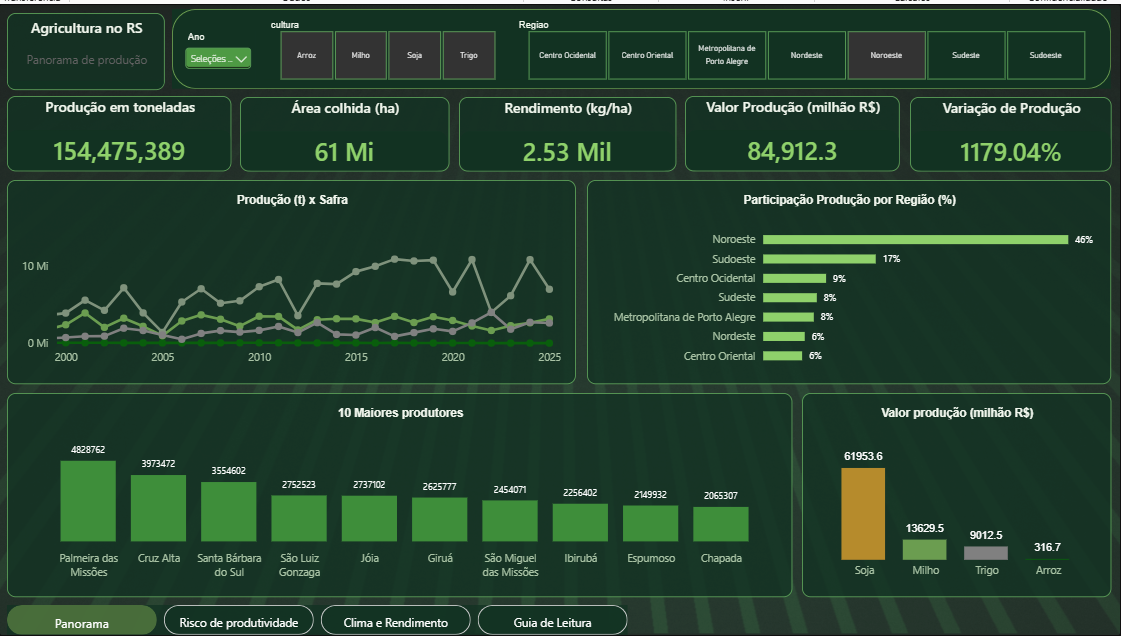

What the dashboard file says about the page in this screenshot:
{"tool":"powerbi","page":{"name":"Panorama","canvas":[1280,720],"ordinal":0},"visuals":[{"type":"shape","box":[197.5,6.2,1071.2,91.2],"z":0},{"type":"cardVisual","title":"Produção em toneladas","fields":{"Data":["_Medidas.producao_ton"]},"box":[8.8,105,256.2,86.2],"z":1000},{"type":"cardVisual","title":"Área colhida (ha)","fields":{"Data":["_Medidas.area_colhida_ton"]},"box":[275,106.2,238.8,85],"z":2000},{"type":"cardVisual","fields":{"Data":["_Medidas.Rendimento exibido"]},"box":[525,106.2,247.5,85],"z":3000},{"type":"cardVisual","title":"Valor Produção (milhão R$)","fields":{"Data":["_Medidas.valor_producao_milhao"]},"box":[782.5,105,245,86.2],"z":4000},{"type":"cardVisual","fields":{"Data":["_Medidas.variacao_da_producao"]},"box":[1300.9,86.3,360.3,148.9],"z":5000},{"type":"lineChart","title":"Produção (t) x Safra","fields":{"Category":["dim_ano.ano"],"Series":["dim_cultura.cultura"],"Y":["_Medidas.producao_ton"]},"box":[8.8,201.2,648.8,232.5],"z":6000},{"type":"columnChart","title":"Valor produção (milhão R$)","fields":{"Category":["dim_cultura.cultura"],"Y":["_Medidas.valor_producao_milhao"]},"box":[916.2,443.8,352.5,232.5],"z":7000},{"type":"slicer","fields":{"Values":["dim_ano.ano"]},"box":[207.8,30.6,85.4,56.1],"z":8000},{"type":"slicer","title":"Região","fields":{"Values":["dim_mesorregiao.mesorregiao"]},"box":[585,17.5,672.5,68.8],"z":9000},{"type":"slicer","fields":{"Values":["dim_cultura.cultura"]},"box":[302.5,17.5,282.5,68.8],"z":10000},{"type":"pageNavigator","box":[9.2,685.9,708.2,34.1],"z":11000},{"type":"cardVisual","title":"Variação de Produção","fields":{"Data":["_Medidas.variacao_da_producao"]},"box":[1038.8,106.2,230,85],"z":12000},{"type":"columnChart","title":"10 Maiores produtores","fields":{"Category":["dim_municipio.municipio"],"Y":["_Medidas.producao_ton"]},"box":[8.8,443.8,896.2,232.5],"z":13000},{"type":"clusteredBarChart","title":"Participação Produção por Região (%)","fields":{"Category":["dim_municipio.mesorregiao"],"Y":["_Medidas.participacao_producao"]},"box":[671.2,201.2,597.5,232.5],"z":14000},{"type":"shape","title":"Agricultura no RS","box":[8.8,10,180,87.5],"z":15000}]}

Visuals, with their boxes in screenshot pixels (x1, y1, x2, y2), scaled from the page's 1280x720 canvas onto the 1121x636 screenshot:
shape: BBox(173, 5, 1111, 86)
"Produção em toneladas" cardVisual: BBox(8, 93, 232, 169)
"Área colhida (ha)" cardVisual: BBox(241, 94, 450, 169)
cardVisual - _Medidas.Rendimento exibido: BBox(460, 94, 677, 169)
"Valor Produção (milhão R$)" cardVisual: BBox(685, 93, 900, 169)
"Produção (t) x Safra" lineChart: BBox(8, 178, 576, 383)
"Valor produção (milhão R$)" columnChart: BBox(802, 392, 1111, 597)
slicer - dim_ano.ano: BBox(182, 27, 257, 77)
"Região" slicer: BBox(512, 15, 1101, 76)
slicer - dim_cultura.cultura: BBox(265, 15, 512, 76)
pageNavigator: BBox(8, 606, 628, 635)
"Variação de Produção" cardVisual: BBox(910, 94, 1111, 169)
"10 Maiores produtores" columnChart: BBox(8, 392, 793, 597)
"Participação Produção por Região (%)" clusteredBarChart: BBox(588, 178, 1111, 383)
"Agricultura no RS" shape: BBox(8, 9, 165, 86)
